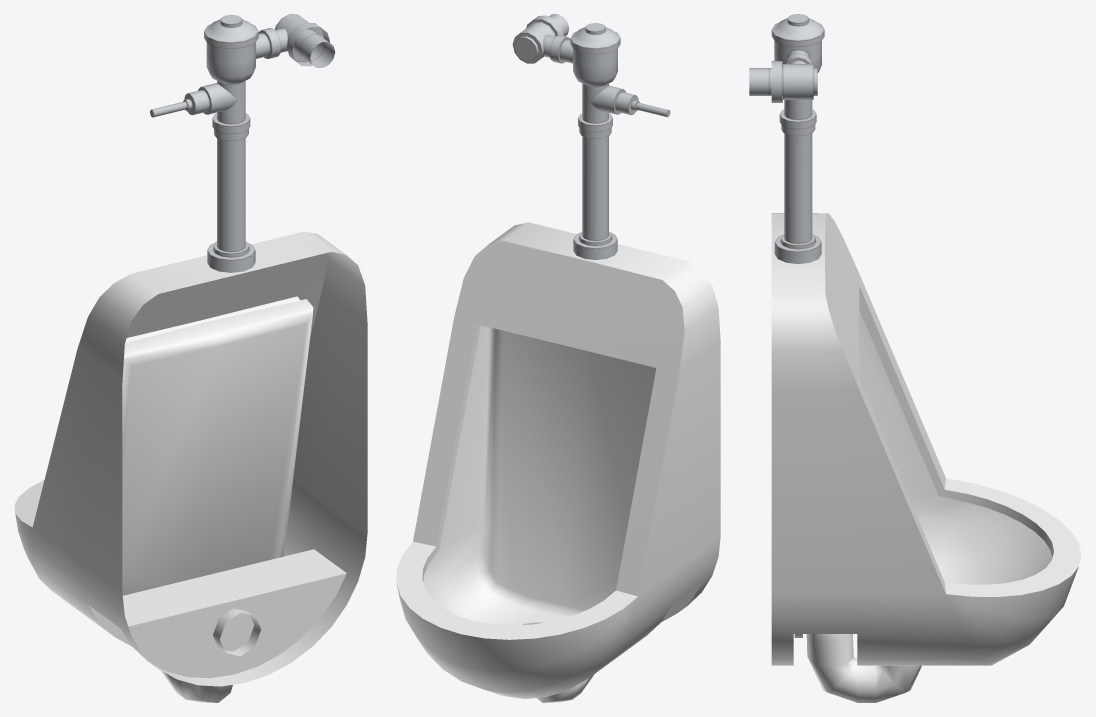
The model's file is Urinal_B.fbx.
3 views of the same model, side by side, from view 1: azimuth 30°, elevation 25°; view 2: azimuth 150°, elevation 25°; view 3: azimuth 270°, elevation 25° (orthographic). The views are drawn at different scales.
Parts seen in each view (by area): view 1: Urinal_B; view 2: Urinal_B; view 3: Urinal_B.
Boxes of the visible parts, box(x1,y1,x2,y2) form: Urinal_B: box(14, 14, 367, 702); Urinal_B: box(396, 14, 720, 702); Urinal_B: box(749, 14, 1081, 702).
Size of the model in its own units: 0.2012 by 0.2435 by 0.553.
